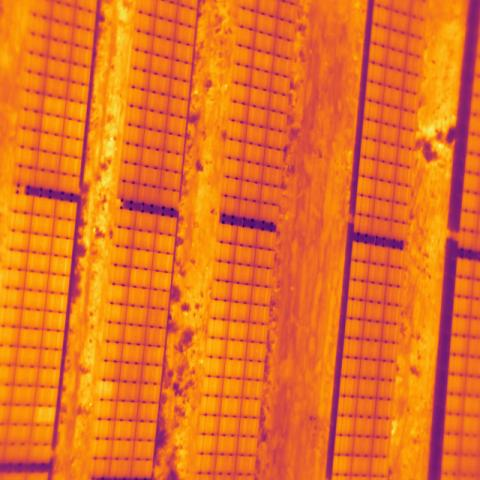fault: (97, 380, 120, 401), (32, 406, 55, 426)
